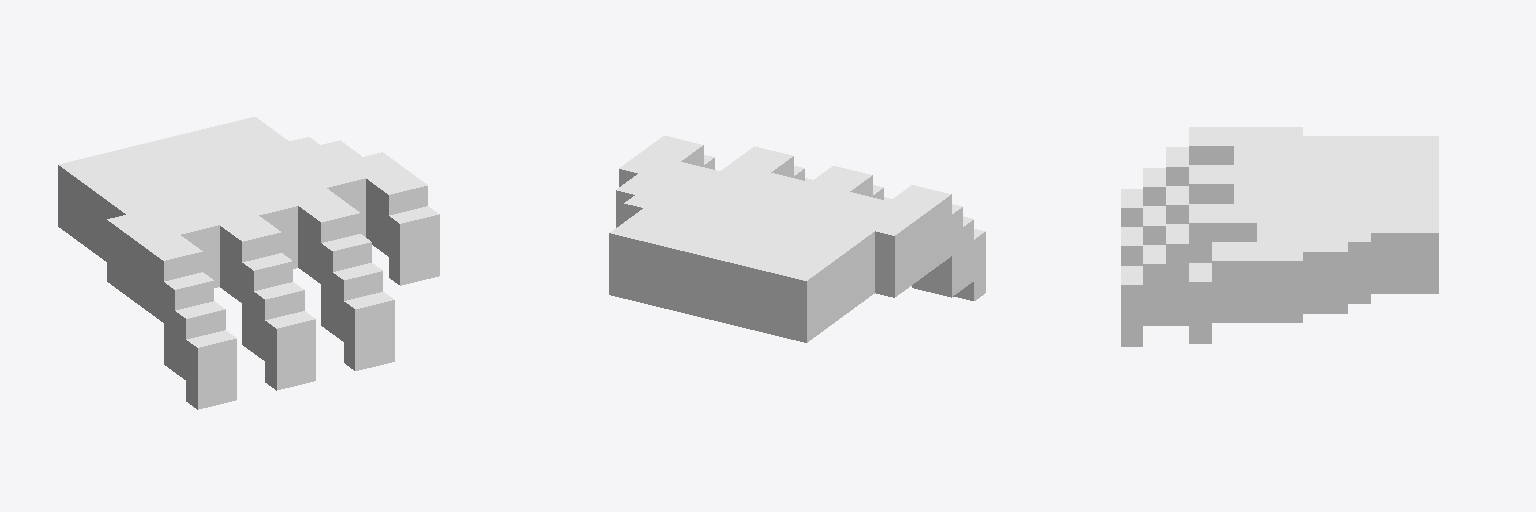
Rendered from hand.obj.
The picture shows the model from 3 angles: view 1: azimuth 30°, elevation 25°; view 2: azimuth 150°, elevation 25°; view 3: azimuth 270°, elevation 25°; orthographic projection.
Parts seen in each view (by area): view 1: object 1; view 2: object 1; view 3: object 1.
Boxes of the visible parts, x1,y1,x2,y2 form: object 1: [58, 117, 439, 409]; object 1: [609, 136, 985, 342]; object 1: [1121, 127, 1438, 346].
Size of the model in its own units: 1.4 by 0.6 by 1.4.